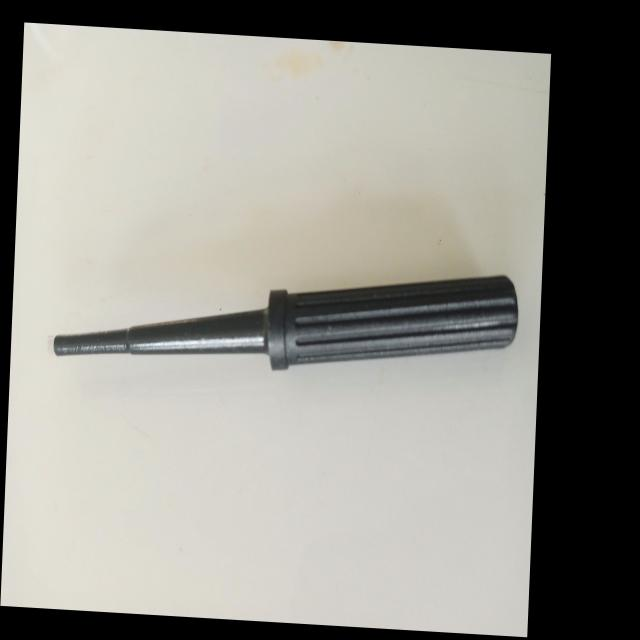Screw Driver: (47, 239, 529, 404)
